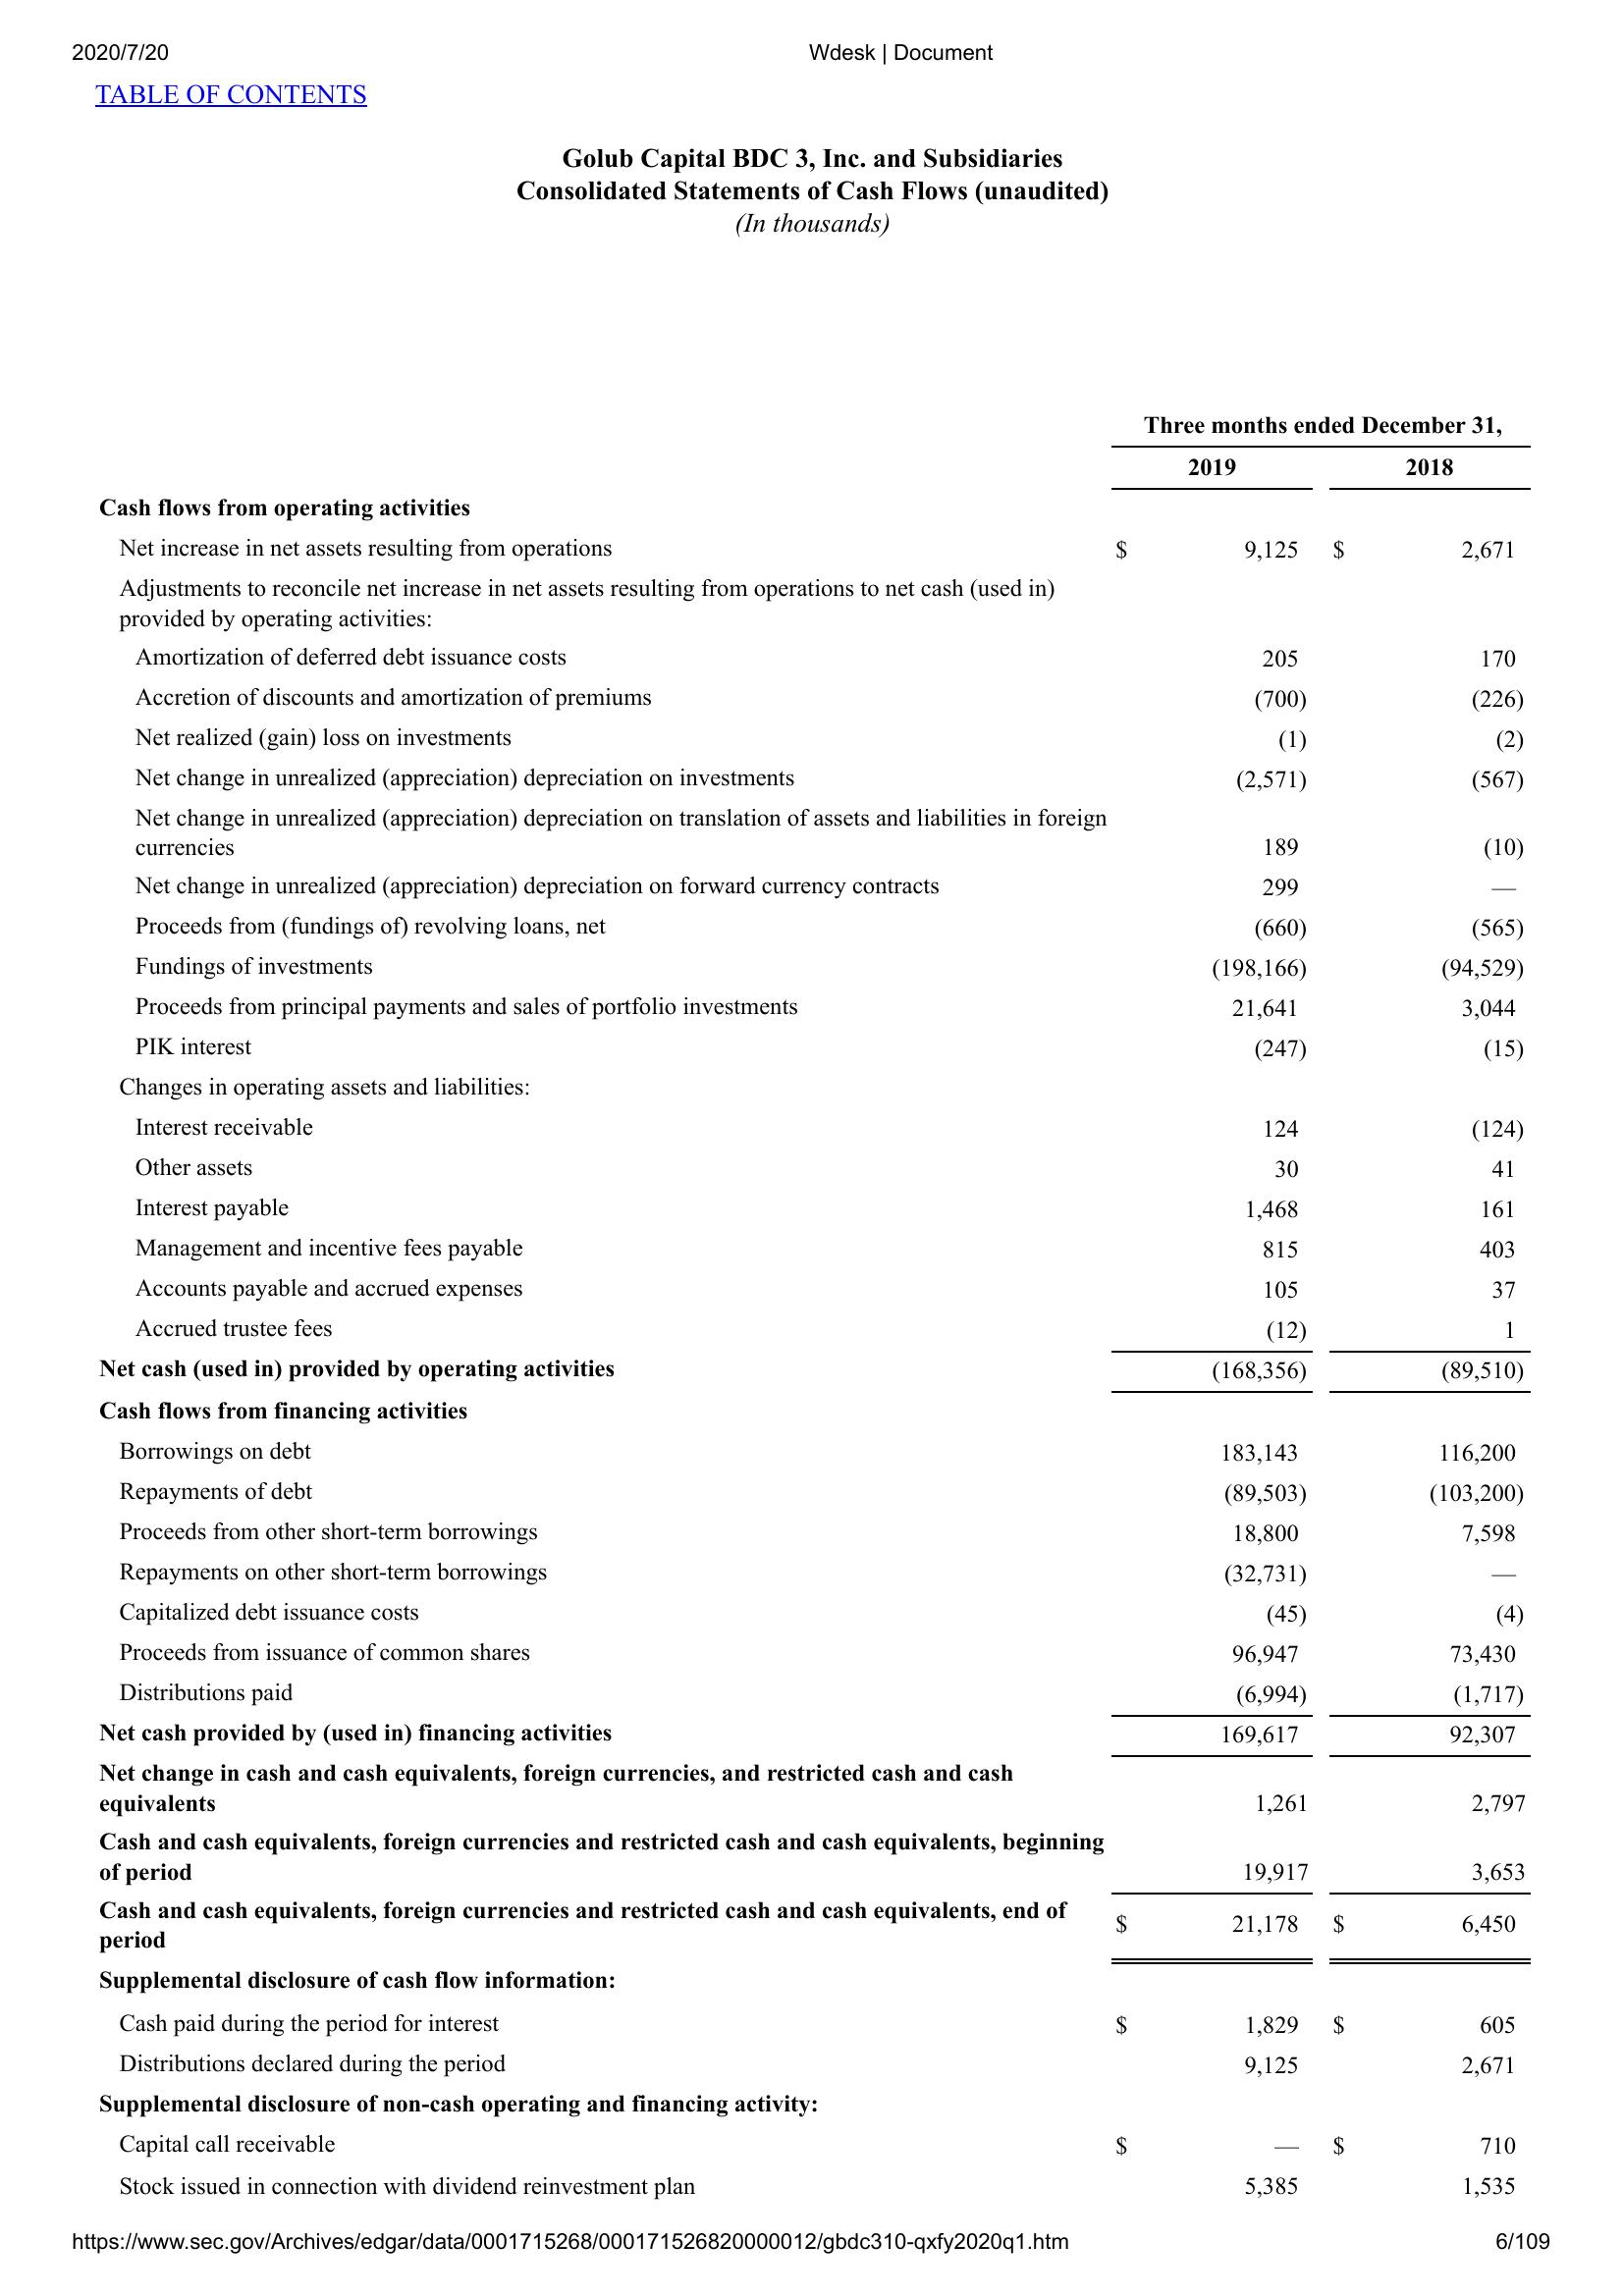table: (95, 405, 1539, 2212)
